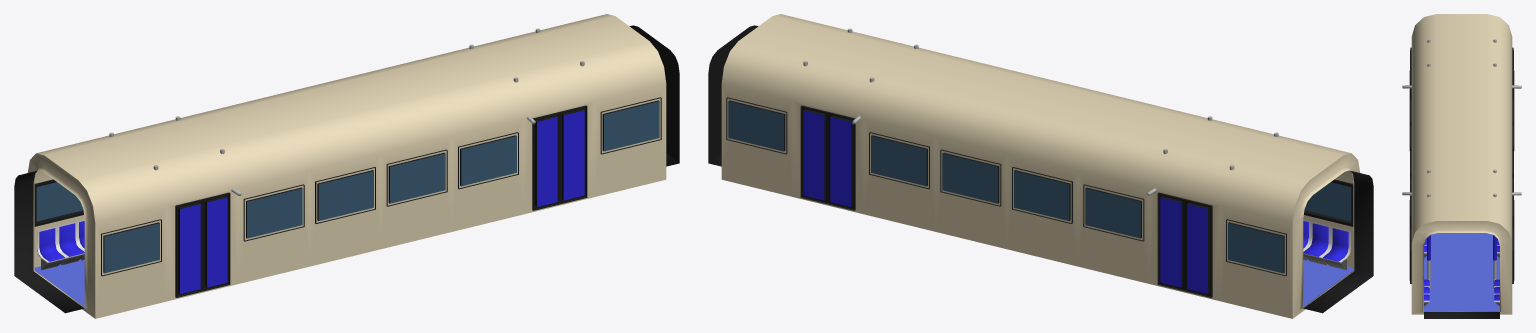
The model's file is ВагонПоезда.fbx.
The picture shows the model from 3 angles, left to right: view 1: azimuth 30°, elevation 25°; view 2: azimuth 150°, elevation 25°; view 3: azimuth 270°, elevation 25°; orthographic projection. The views are drawn at different scales.
Visible parts, largest first — view 1: Cube, Cube.003, Cube.002, Сиденья.001; view 2: Cube, Cube.003, Cube.002, Сиденья.001; view 3: Cube, Cube.003, Cube.002, Сиденья.001, Cylinder.005, Cylinder.006, Cylinder.001, Сиденья.
Boxes of the visible parts, left/top/right/bottom form: Cube: left=14, top=14, right=679, bottom=318; Cube.003: left=34, top=97, right=661, bottom=276; Cube.002: left=175, top=105, right=587, bottom=297; Сиденья.001: left=37, top=219, right=84, bottom=270; Cube: left=708, top=14, right=1373, bottom=318; Cube.003: left=726, top=97, right=1353, bottom=276; Cube.002: left=800, top=105, right=1212, bottom=297; Сиденья.001: left=1303, top=219, right=1350, bottom=270; Cube: left=1411, top=14, right=1512, bottom=318; Cube.003: left=1410, top=47, right=1513, bottom=281; Cube.002: left=1409, top=67, right=1514, bottom=283; Сиденья.001: left=1424, top=279, right=1499, bottom=306; Cylinder.005: left=1427, top=39, right=1496, bottom=288; Cylinder.006: left=1427, top=235, right=1496, bottom=260; Cylinder.001: left=1402, top=85, right=1521, bottom=195; Сиденья: left=1424, top=238, right=1499, bottom=257.
Bounding box in the file's own units: 19.57 × 4.42 × 3.97.
